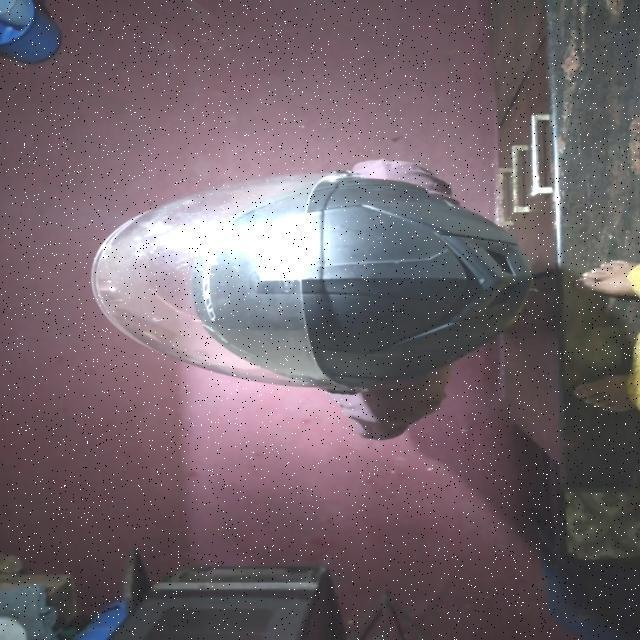helmet: (94, 172, 536, 400)
